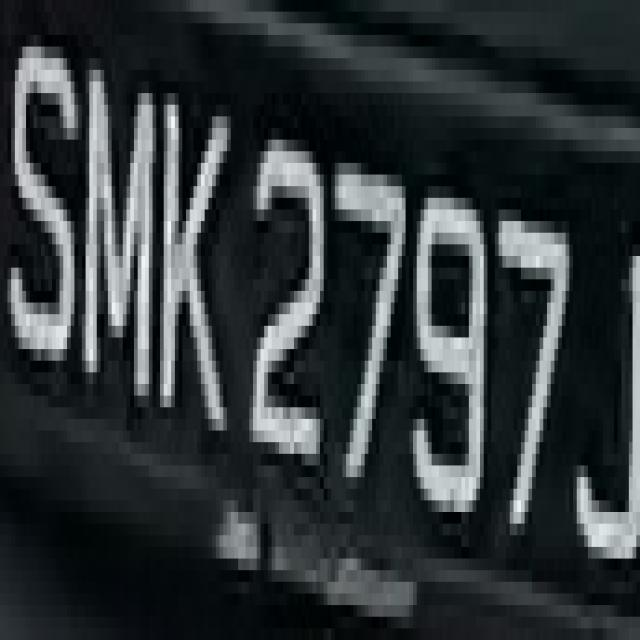2: (235, 81, 331, 524)
7: (324, 93, 413, 547), (484, 140, 569, 547)
9: (398, 163, 495, 558)
J: (3, 3, 4, 10)
K: (156, 47, 242, 466)
M: (78, 23, 164, 454)
S: (11, 24, 82, 408)
